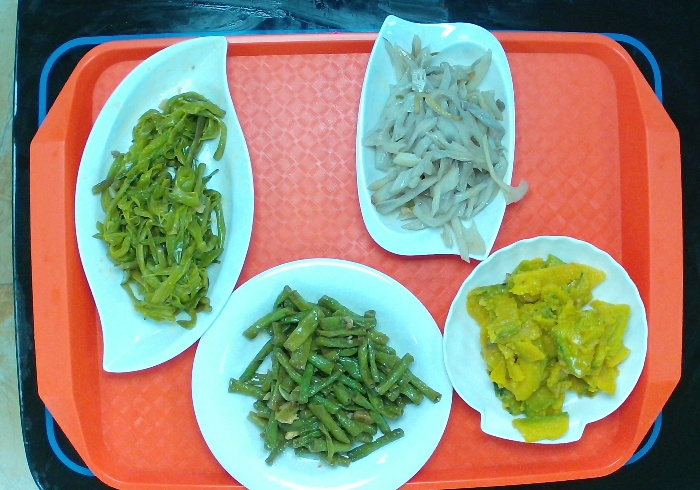RJxy-Bei_Ke_Wan: (439, 230, 654, 450)
RJxy-Jian_Jiao_Fang_Die: (351, 9, 523, 269)
RJxy-Jian_Jiao_Pan: (70, 33, 260, 378)
RJxy-Yuan_Pan: (188, 251, 455, 490)
